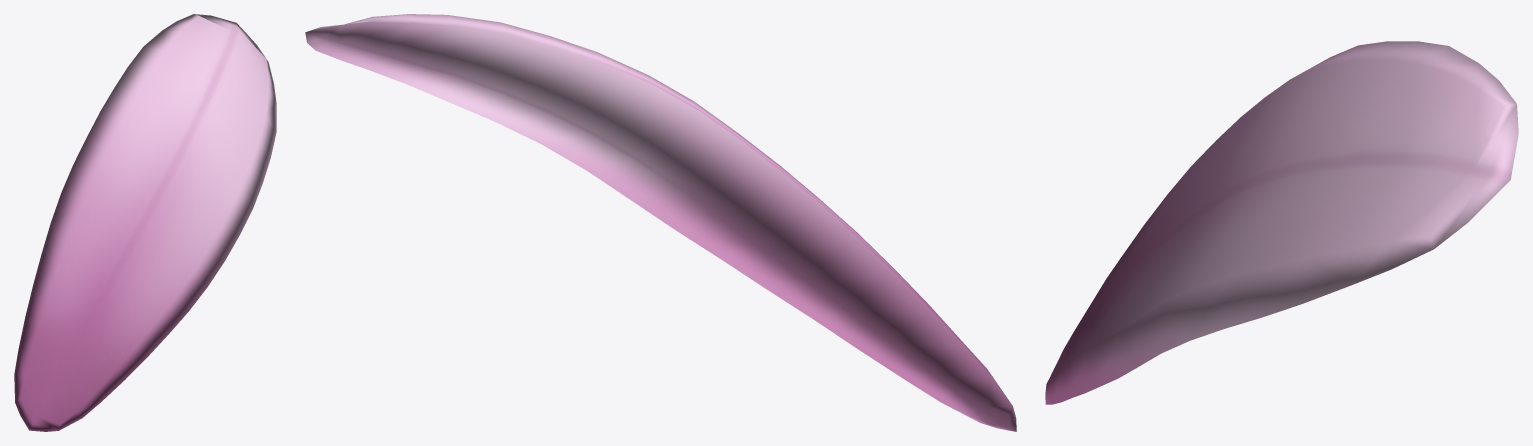
The model's file is petal6.obj.
3 views of the same model, side by side, from view 1: azimuth 30°, elevation 25°; view 2: azimuth 150°, elevation 25°; view 3: azimuth 270°, elevation 25° (orthographic). The views are drawn at different scales.
Parts seen in each view (by area): view 1: Object030; view 2: Object030; view 3: Object030.
Boxes of the visible parts, x1=… form: Object030: x1=14, y1=14, x2=276, y2=431; Object030: x1=305, y1=14, x2=1016, y2=431; Object030: x1=1045, y1=41, x2=1518, y2=404.
Bounding box in the file's own units: 88.34 × 67.3 × 53.49.
